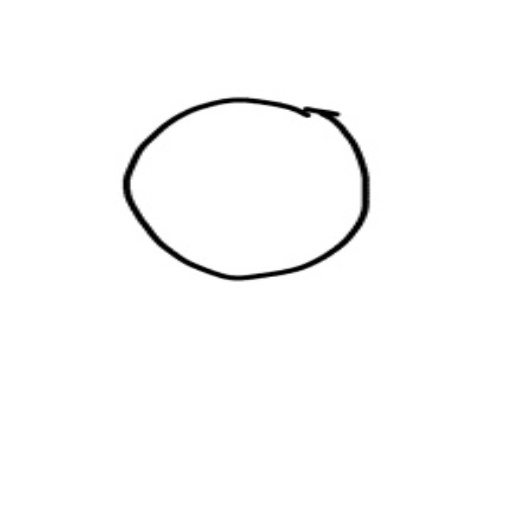circle: (113, 88, 378, 285)
